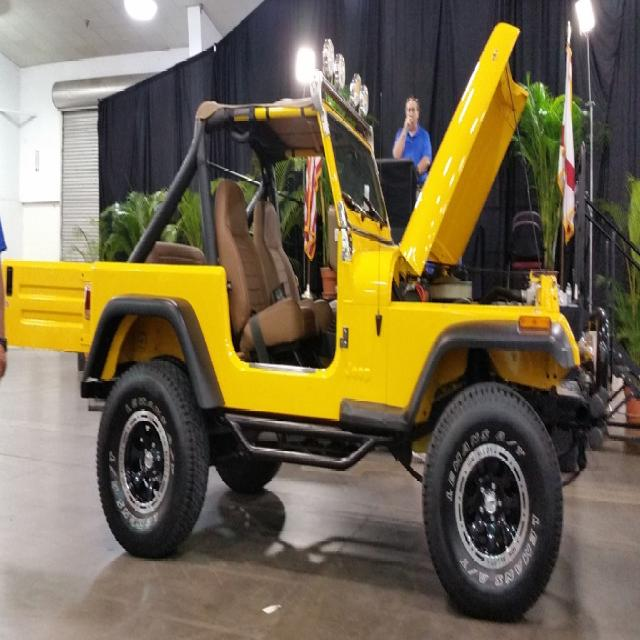car: (6, 15, 631, 621)
